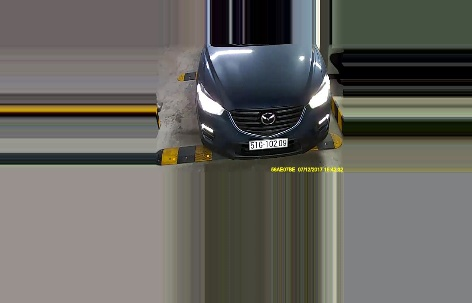plate: (247, 136, 289, 148)
